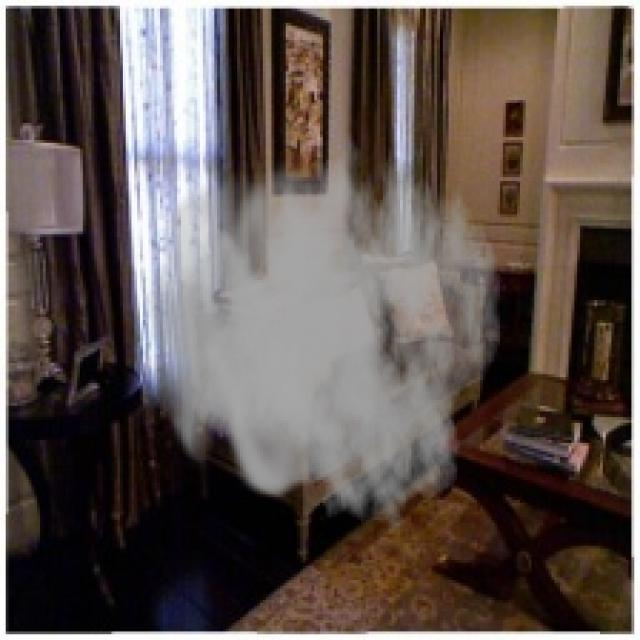Smoke: (146, 111, 503, 534)
